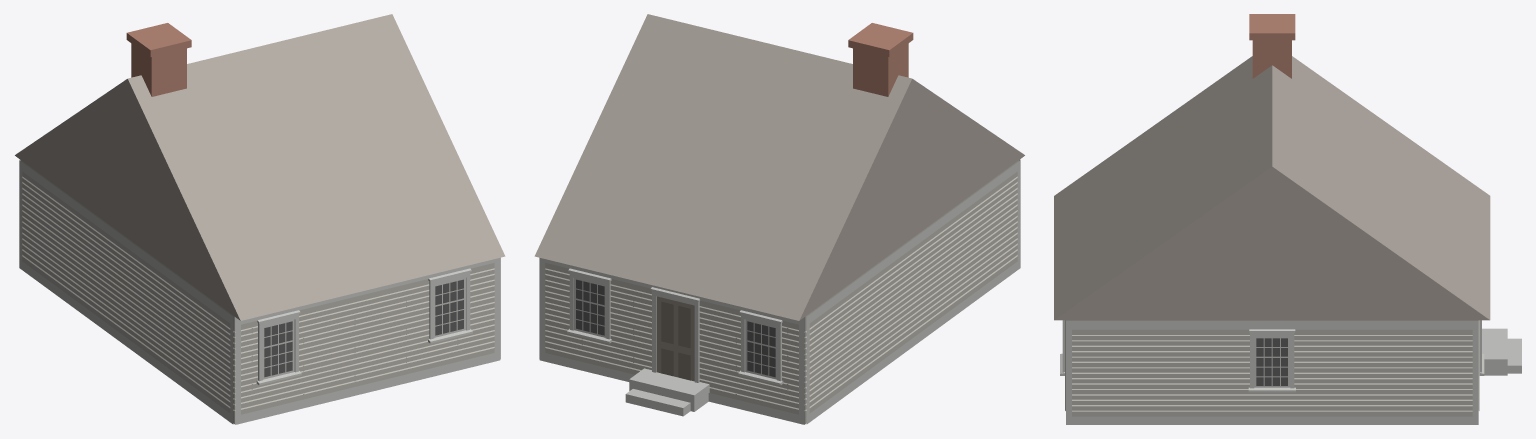
The model's file is recon_1835_blk_washington_clark_d4_02__inferred_1835.glb.
3 renders of one model, left to right at view 1: azimuth 30°, elevation 25°; view 2: azimuth 150°, elevation 25°; view 3: azimuth 270°, elevation 25°, orthographic. The views are drawn at different scales.
Visible parts, largest first — view 1: recon_1835_blk_washington_clark_d4_02__inferred_1835; view 2: recon_1835_blk_washington_clark_d4_02__inferred_1835; view 3: recon_1835_blk_washington_clark_d4_02__inferred_1835.
Part boxes in pixels (left/top/right/bottom): recon_1835_blk_washington_clark_d4_02__inferred_1835: left=15, top=14, right=505, bottom=424; recon_1835_blk_washington_clark_d4_02__inferred_1835: left=534, top=14, right=1024, bottom=424; recon_1835_blk_washington_clark_d4_02__inferred_1835: left=1054, top=14, right=1521, bottom=424.
Size of the model in its own units: 6.44 by 6.85 by 9.98.
